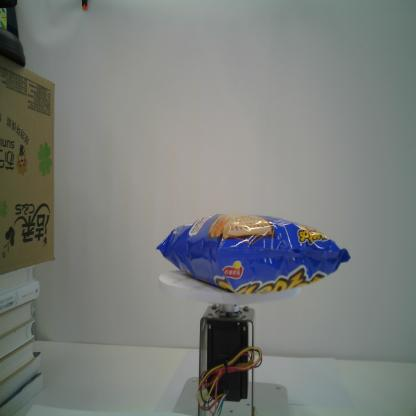Puffed Food: (154, 211, 352, 297)
